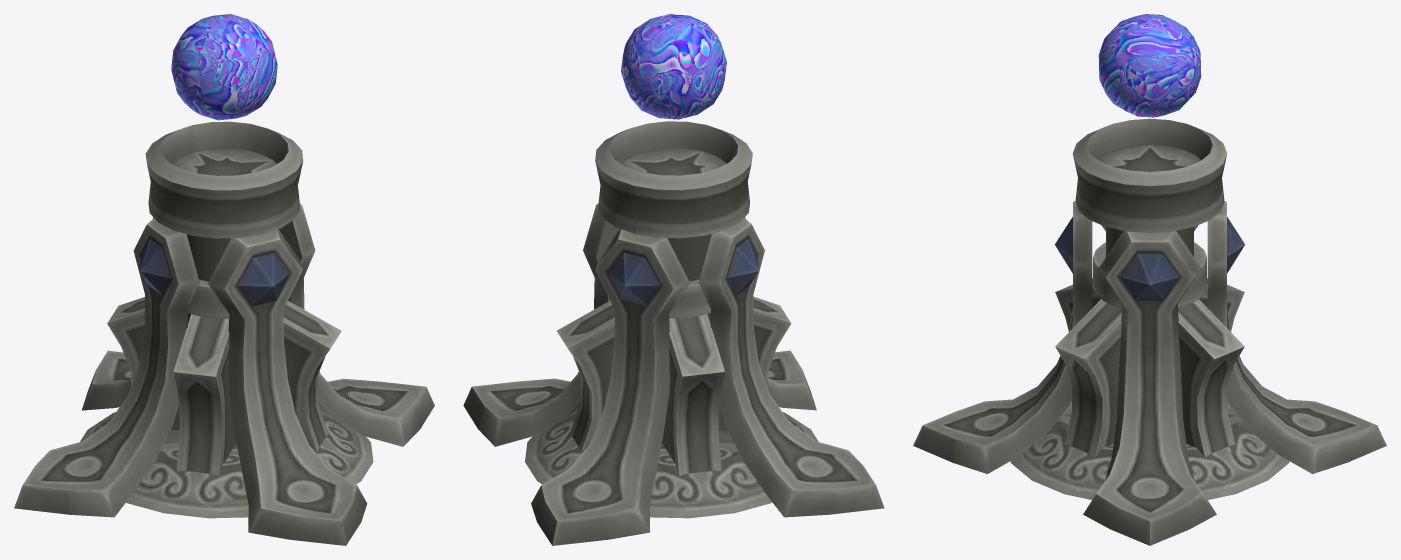
Rendered from orbe.glb.
The picture shows the model from 3 angles, left to right: view 1: azimuth 30°, elevation 25°; view 2: azimuth 150°, elevation 25°; view 3: azimuth 270°, elevation 25°; orthographic projection. The views are drawn at different scales.
Visible parts, largest first — view 1: Magic_Shrine1, Magic_Orb.002; view 2: Magic_Shrine1, Magic_Orb.002; view 3: Magic_Shrine1, Magic_Orb.002.
Boxes of the visible parts, x1,y1,x2,y2 form: Magic_Shrine1: (14,121,434,545); Magic_Orb.002: (171,14,277,120); Magic_Shrine1: (463,121,884,545); Magic_Orb.002: (621,14,726,119); Magic_Shrine1: (913,118,1386,545); Magic_Orb.002: (1098,14,1201,117).
Size of the model in its own units: 1.56 by 1.55 by 1.56.
2 materials, 2 textured.
